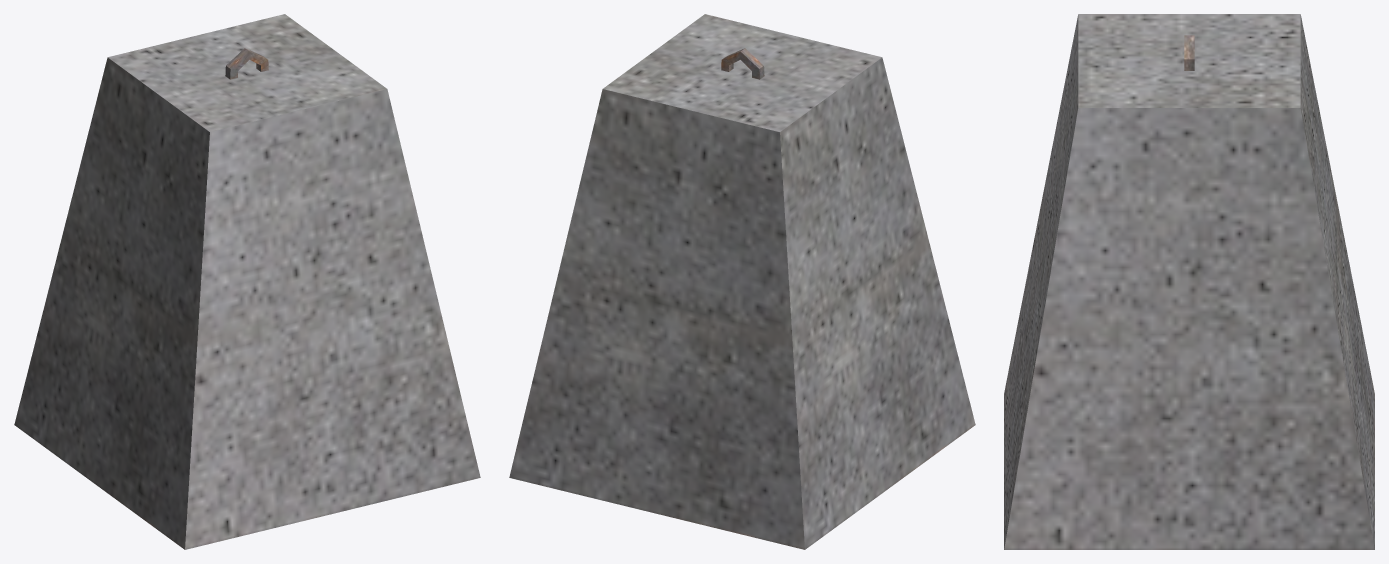
The model's file is DragonTeethSingle01.obj.
The picture shows the model from 3 angles, left to right: view 1: azimuth 30°, elevation 25°; view 2: azimuth 150°, elevation 25°; view 3: azimuth 270°, elevation 25°; orthographic projection. The views are drawn at different scales.
Parts seen in each view (by area): view 1: DragonTeethSingle01; view 2: DragonTeethSingle01; view 3: DragonTeethSingle01.
Part boxes in pixels (left/top/right/bottom): DragonTeethSingle01: left=14, top=14, right=480, bottom=549; DragonTeethSingle01: left=509, top=14, right=975, bottom=549; DragonTeethSingle01: left=1004, top=14, right=1374, bottom=549.
Size of the model in its own units: 1.12 by 1.46 by 1.12.
